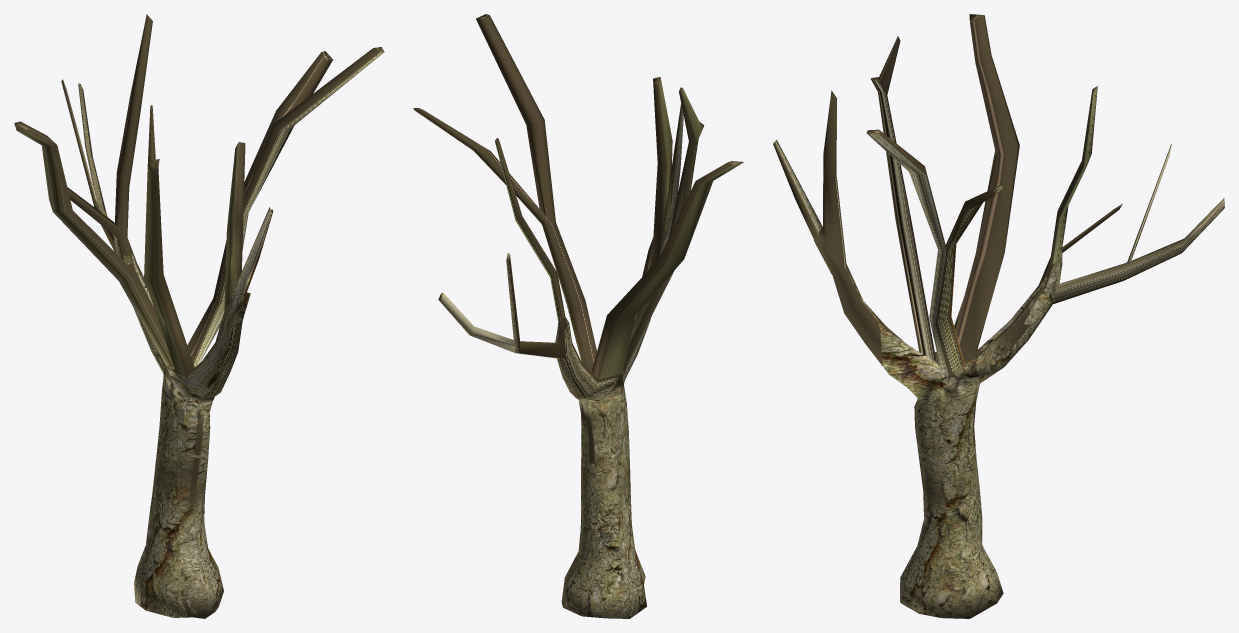
File: tree_5.obj
3 views of the same model, side by side, from view 1: azimuth 30°, elevation 25°; view 2: azimuth 150°, elevation 25°; view 3: azimuth 270°, elevation 25° (orthographic). The views are drawn at different scales.
Parts seen in each view (by area): view 1: TRUNK_Cylinder.002; view 2: TRUNK_Cylinder.002; view 3: TRUNK_Cylinder.002.
Part boxes in pixels (box(x1,y1,x2,y2)): TRUNK_Cylinder.002: box(14, 14, 384, 618); TRUNK_Cylinder.002: box(413, 14, 743, 618); TRUNK_Cylinder.002: box(773, 14, 1224, 618).
Bounding box in the file's own units: 12.48 × 19.88 × 14.55.
